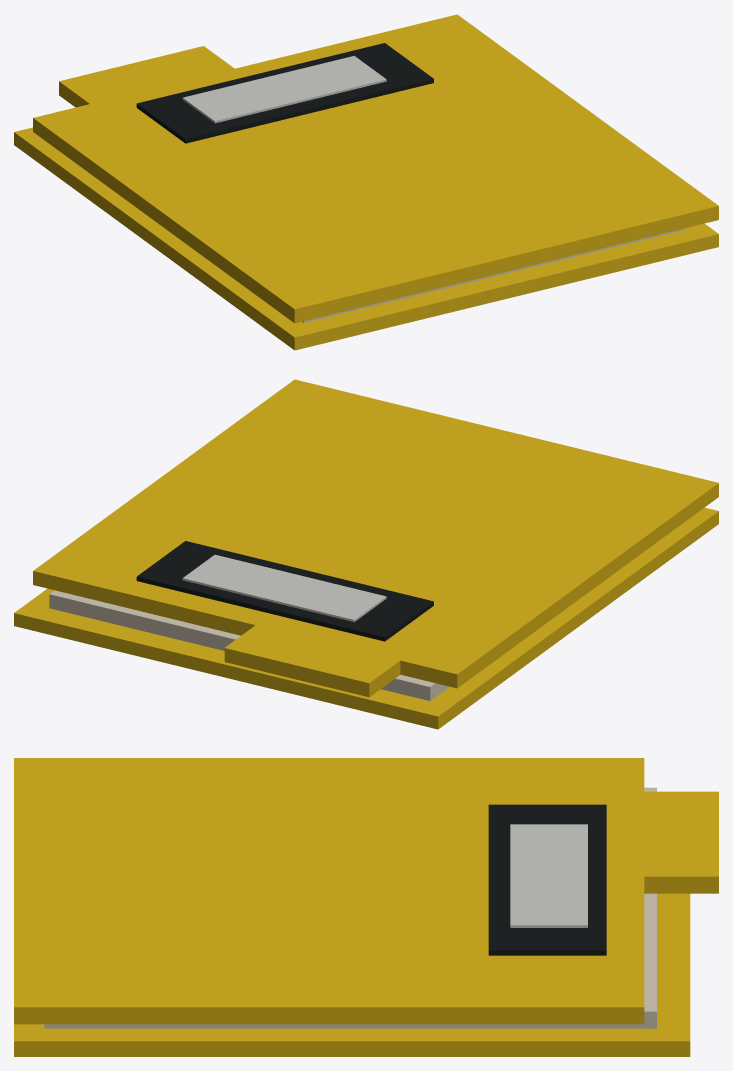
File: CMU3DFolderYellow.glb
3 renders of one model, top to bottom at view 1: azimuth 30°, elevation 25°; view 2: azimuth 150°, elevation 25°; view 3: azimuth 270°, elevation 25°, orthographic. The views are drawn at different scales.
Parts seen in each view (by area): view 1: folder cover, folder back, label inset, paper label, upper tab, file pages; view 2: folder cover, folder back, label inset, upper tab, paper label, file pages; view 3: folder cover, folder back, label inset, paper label, upper tab, file pages.
Part boxes in pixels (x1=…): folder cover: x1=33, y1=14, x2=718, y2=323; folder back: x1=14, y1=127, x2=718, y2=350; label inset: x1=136, y1=43, x2=433, y2=143; paper label: x1=182, y1=55, x2=386, y2=123; upper tab: x1=59, y1=46, x2=235, y2=107; file pages: x1=302, y1=228, x2=684, y2=322; folder cover: x1=33, y1=379, x2=718, y2=688; folder back: x1=14, y1=507, x2=718, y2=729; label inset: x1=136, y1=541, x2=433, y2=641; upper tab: x1=224, y1=625, x2=400, y2=697; paper label: x1=182, y1=554, x2=386, y2=622; file pages: x1=49, y1=590, x2=449, y2=700; folder cover: x1=14, y1=758, x2=644, y2=1024; folder back: x1=14, y1=893, x2=690, y2=1056; label inset: x1=488, y1=804, x2=606, y2=955; paper label: x1=510, y1=824, x2=587, y2=927; upper tab: x1=640, y1=791, x2=718, y2=893; file pages: x1=44, y1=787, x2=656, y2=1028.
Bounding box in the file's own units: 0.41 × 0.044 × 0.49.
